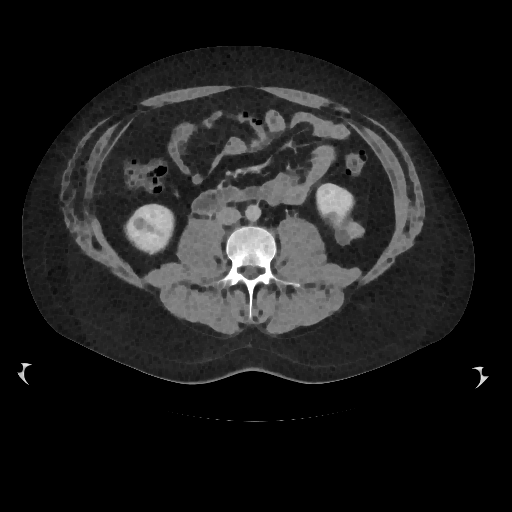Lesion: (329, 214, 369, 247)
